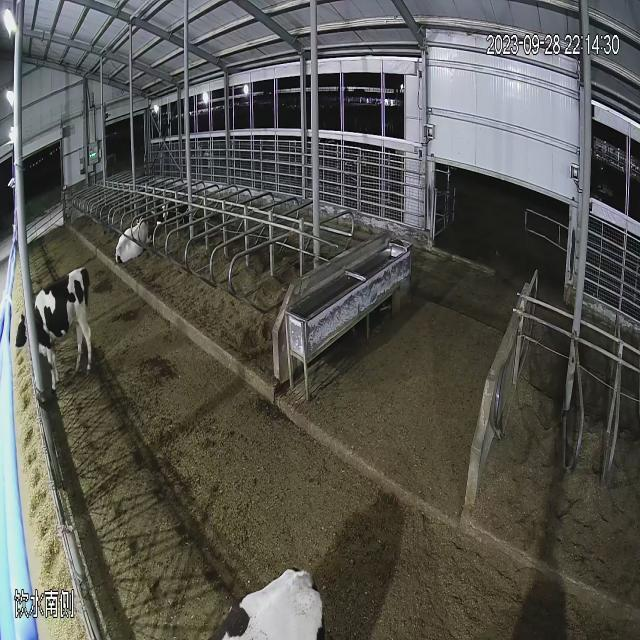feeding: (11, 280, 108, 394)
lying down: (108, 195, 157, 278)
